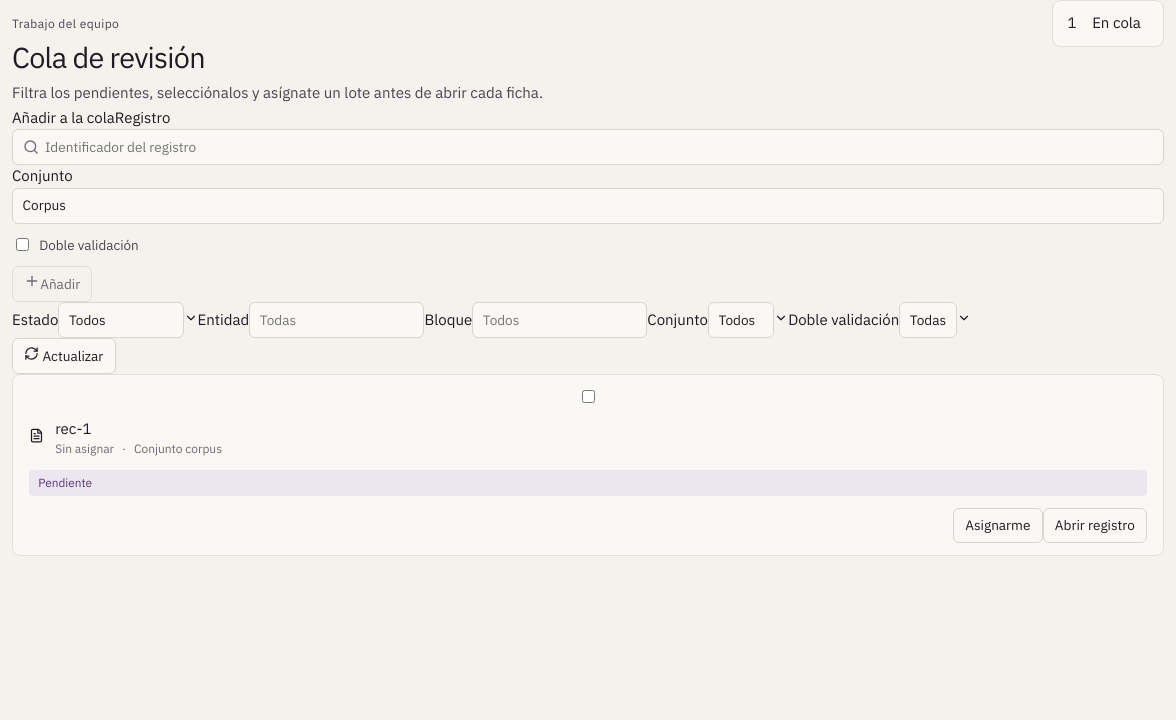
Test case: marca la lista anterior como desactualizada si falla una recarga y permite reintentar
Expected: the text "rec-1" is shown, [55,419,91,438]
Click the button with aria-label "Actualizar cola". click: (64, 356)
box: [12,338,116,374]
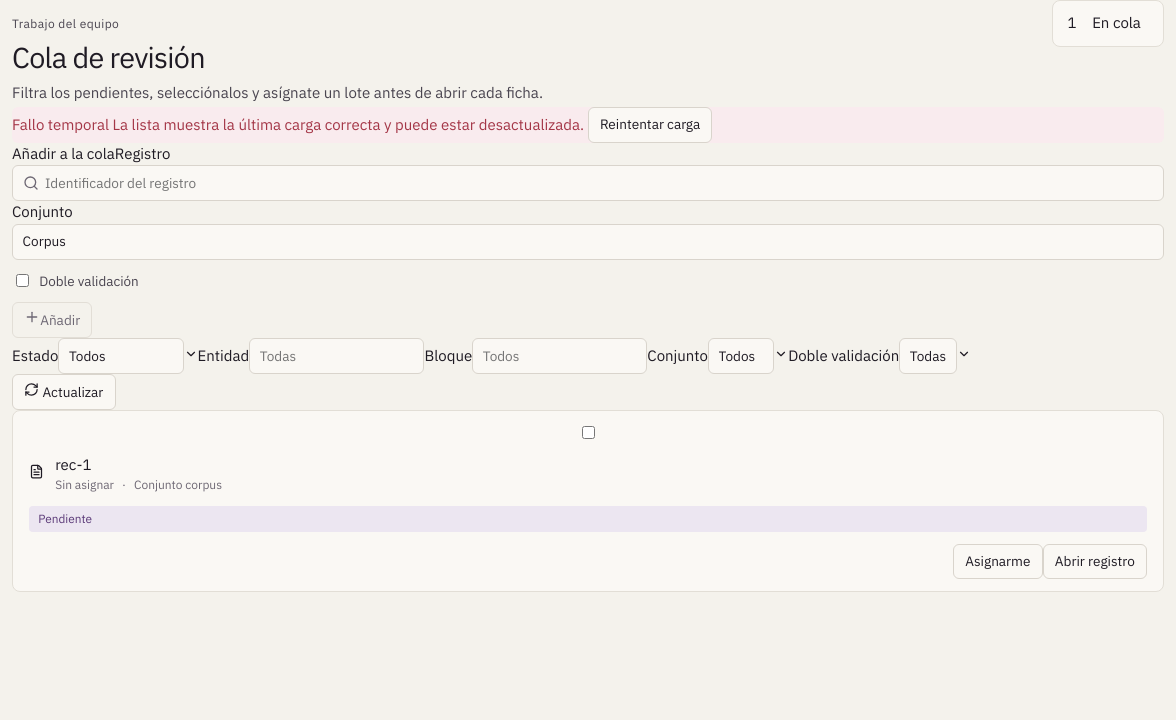
Expected: the text "rec-1" is shown, [55,455,91,474]
Expected: the message shows "puede estar desactualizada", [112,114,584,133]
Click the button "Reintentar carga". click: (650, 125)
box: [588,107,712,143]
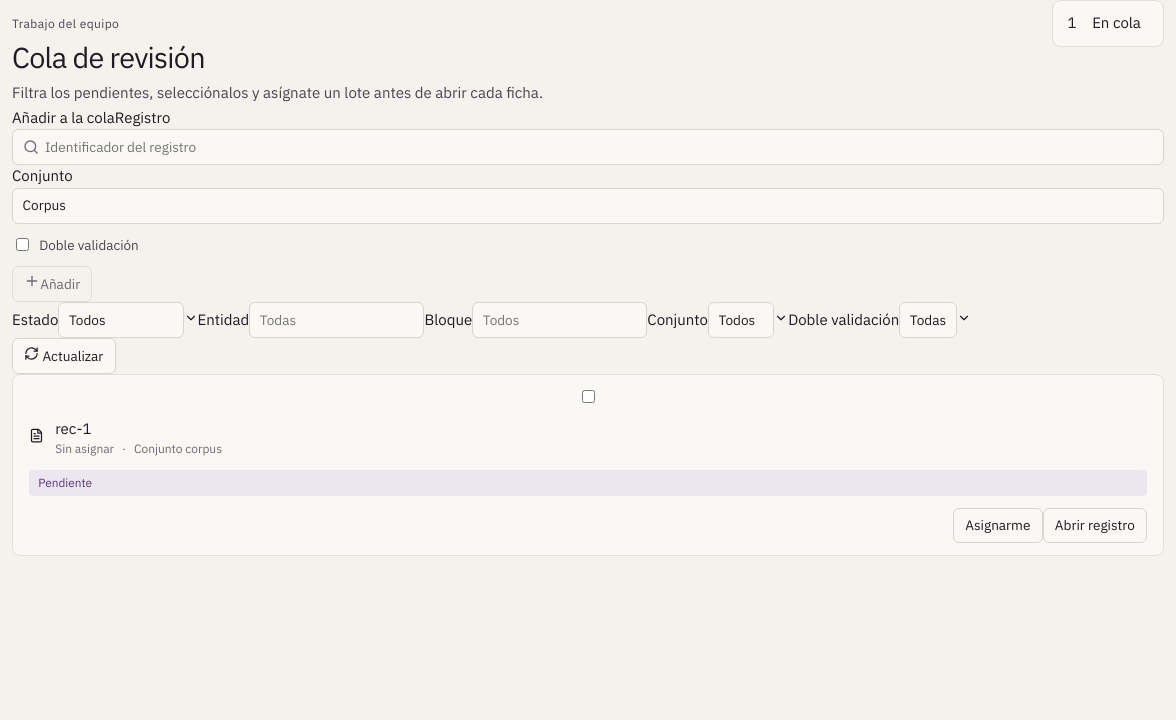
Expected: the message is gone
